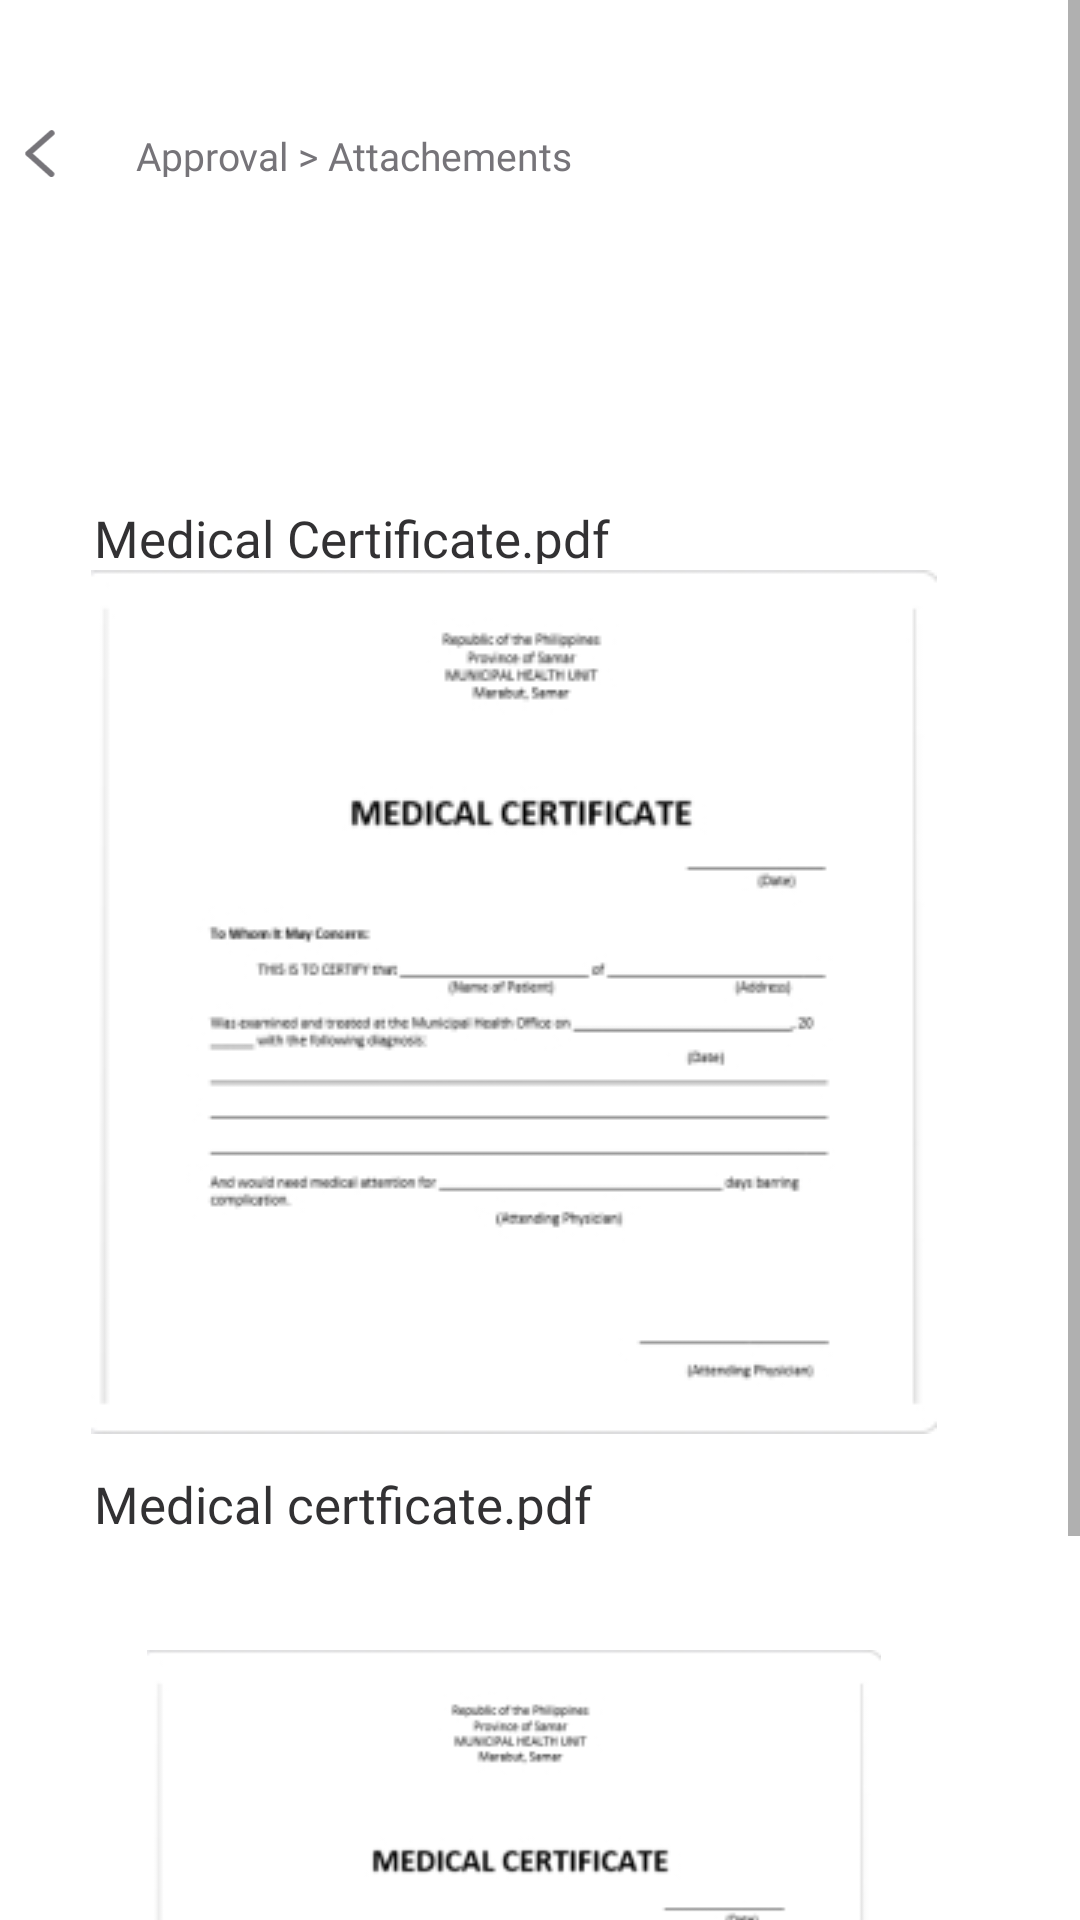

Icons on this 1080×1920 Android screen, each with its box as region(x1, y1, x2, y2):
back arrow: region(25, 130, 55, 177)
